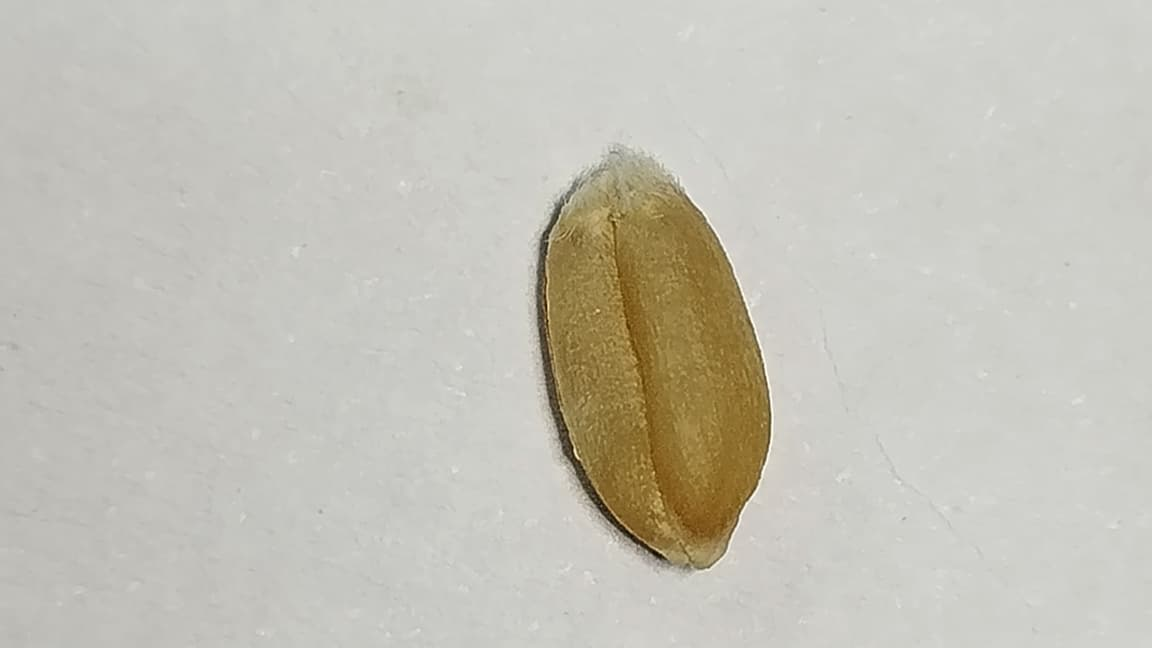healthy: (543, 151, 770, 567)
